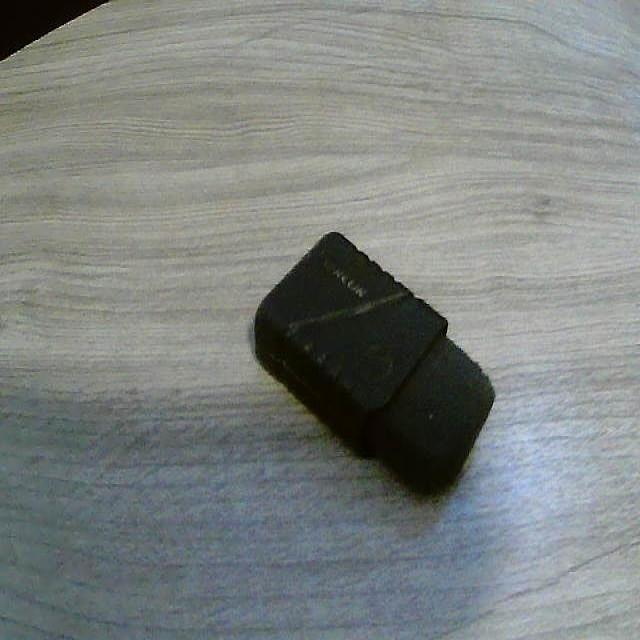borracha: (213, 173, 515, 519)
